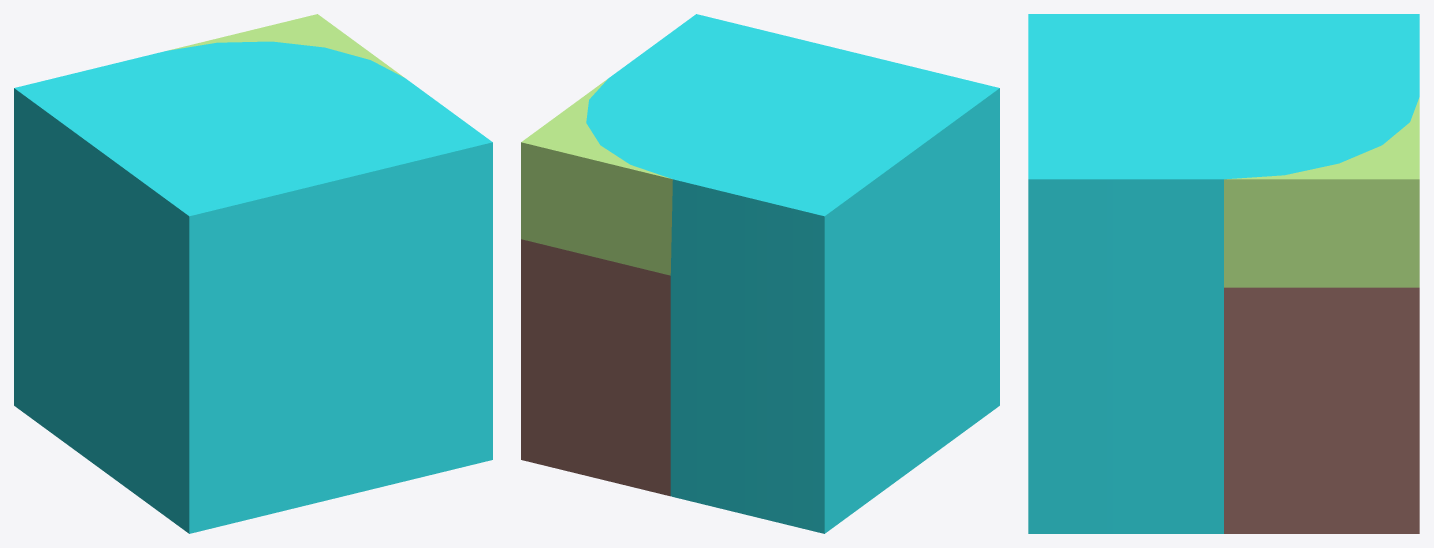
File: WaterCornerBlock.fbx
3 renders of one model, left to right at view 1: azimuth 30°, elevation 25°; view 2: azimuth 150°, elevation 25°; view 3: azimuth 270°, elevation 25°, orthographic. The views are drawn at different scales.
Visible parts, largest first — view 1: WaterCornerBlock; view 2: WaterCornerBlock; view 3: WaterCornerBlock.
Part boxes in pixels (box(x1,y1,x2,y2)): WaterCornerBlock: box(14, 14, 492, 533); WaterCornerBlock: box(521, 14, 999, 533); WaterCornerBlock: box(1028, 14, 1419, 533).
Size of the model in its own units: 0.1 by 0.1 by 0.1.
1 material, 1 textured.
